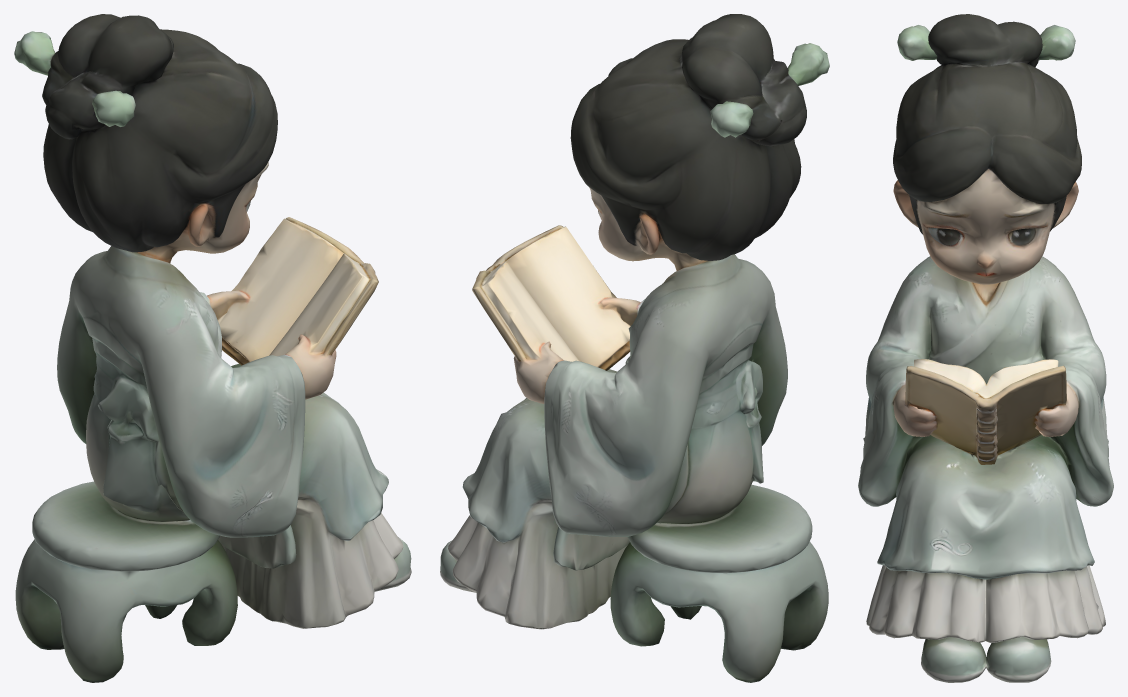
Rendered from daiyu_read.glb.
3 views of the same model, side by side, from view 1: azimuth 30°, elevation 25°; view 2: azimuth 150°, elevation 25°; view 3: azimuth 270°, elevation 25° (orthographic). The views are drawn at different scales.
Visible parts, largest first — view 1: tripo_node_5a3d6bd3-d372-470b-b258-b48d477a252c; view 2: tripo_node_5a3d6bd3-d372-470b-b258-b48d477a252c; view 3: tripo_node_5a3d6bd3-d372-470b-b258-b48d477a252c.
Part boxes in pixels (bbox=[...]): tripo_node_5a3d6bd3-d372-470b-b258-b48d477a252c: bbox=[14, 14, 411, 682]; tripo_node_5a3d6bd3-d372-470b-b258-b48d477a252c: bbox=[440, 14, 829, 682]; tripo_node_5a3d6bd3-d372-470b-b258-b48d477a252c: bbox=[858, 14, 1113, 682].
Size of the model in its own units: 0.5762 by 1 by 0.4038.
Materials: 1 (1 with a texture image).
